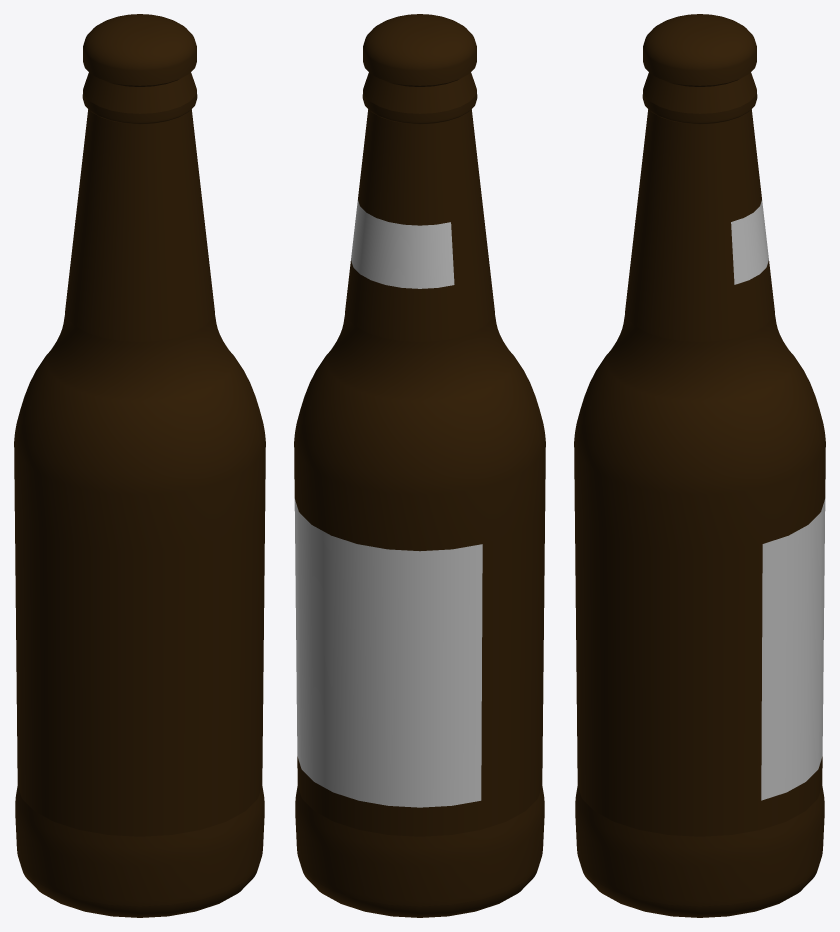
The model's file is botella-bud.obj.
The picture shows the model from 3 angles, left to right: view 1: azimuth 30°, elevation 25°; view 2: azimuth 150°, elevation 25°; view 3: azimuth 270°, elevation 25°; orthographic projection.
Parts seen in each view (by area): view 1: Lathe; view 2: Lathe; view 3: Lathe.
Boxes of the visible parts, x1,y1,x2,y2 form: Lathe: [14, 14, 265, 917]; Lathe: [294, 14, 545, 917]; Lathe: [574, 14, 825, 917].
Size of what is drawn, in the model's own units: 159 by 595 by 159.
